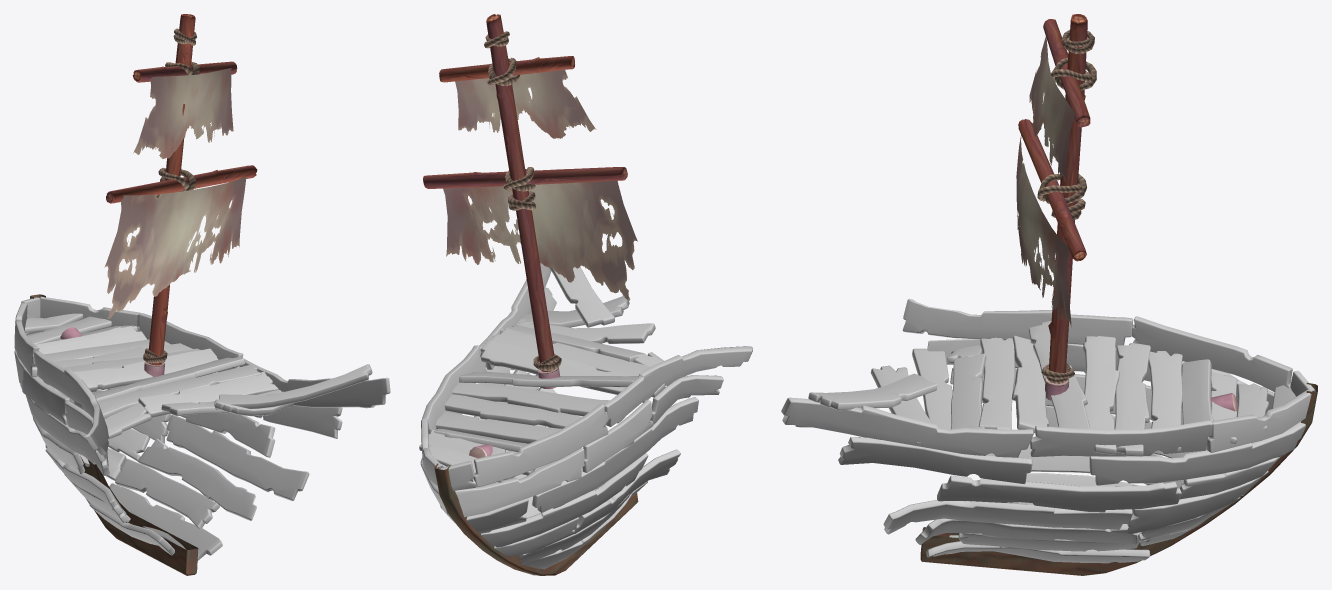
File: Shipwreck_Back_mesh.fbx
The picture shows the model from 3 angles, left to right: view 1: azimuth 30°, elevation 25°; view 2: azimuth 150°, elevation 25°; view 3: azimuth 270°, elevation 25°; orthographic projection. The views are drawn at different scales.
Parts seen in each view (by area): view 1: Shipwreck_Back_mesh; view 2: Shipwreck_Back_mesh; view 3: Shipwreck_Back_mesh.
Part boxes in pixels (left/top/right/bottom): Shipwreck_Back_mesh: left=14, top=14, right=390, bottom=575; Shipwreck_Back_mesh: left=419, top=14, right=752, bottom=575; Shipwreck_Back_mesh: left=781, top=14, right=1317, bottom=575.
Bounding box in the file's own units: 13.21 × 25.39 × 20.76.
